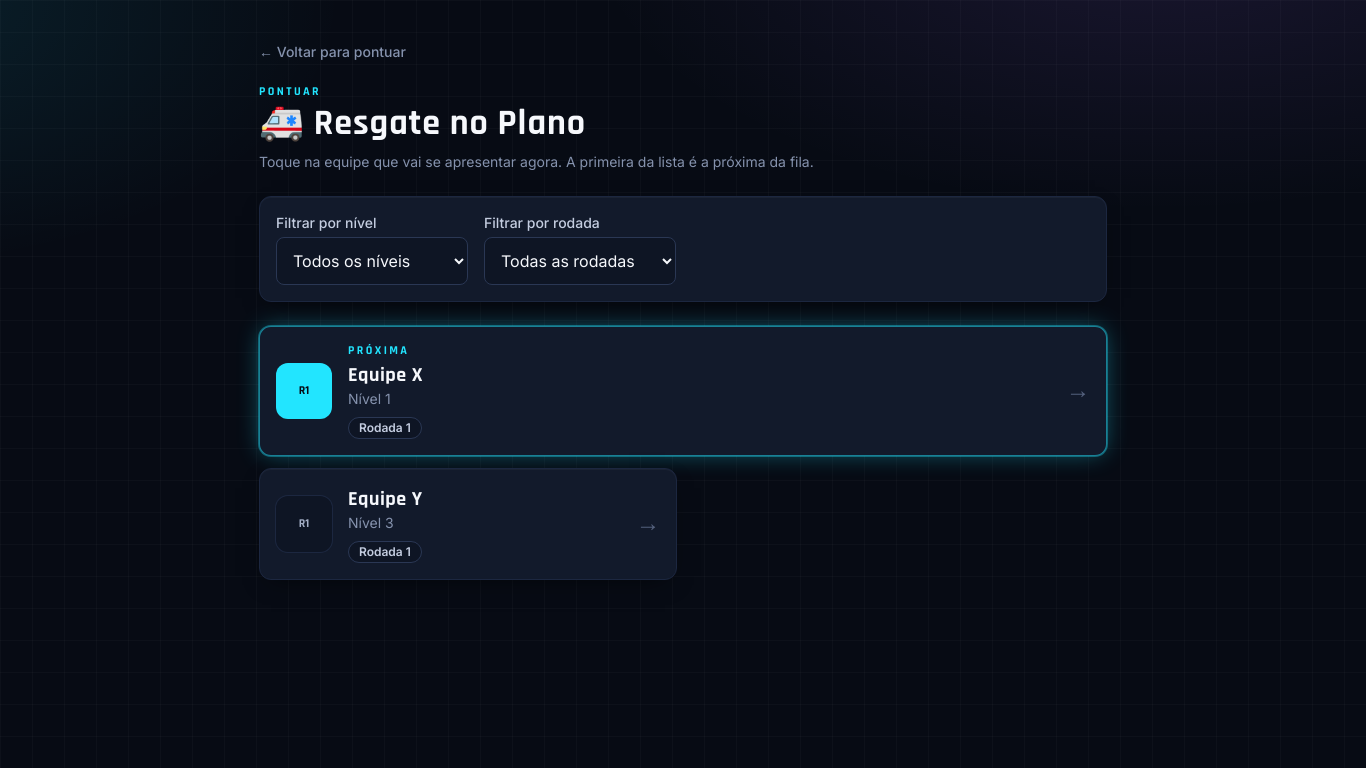
Test: PontuarPage › filtra os cards pendentes pelo nivel selecionado
The width and height of the screenshot is (1366, 768).
expect the heading "Equipe X" is shown: met, box [348, 362, 423, 388]
Select "Nível 3" in the dropdown labelled "Filtrar por nível" at (372, 261), box [276, 237, 468, 285]
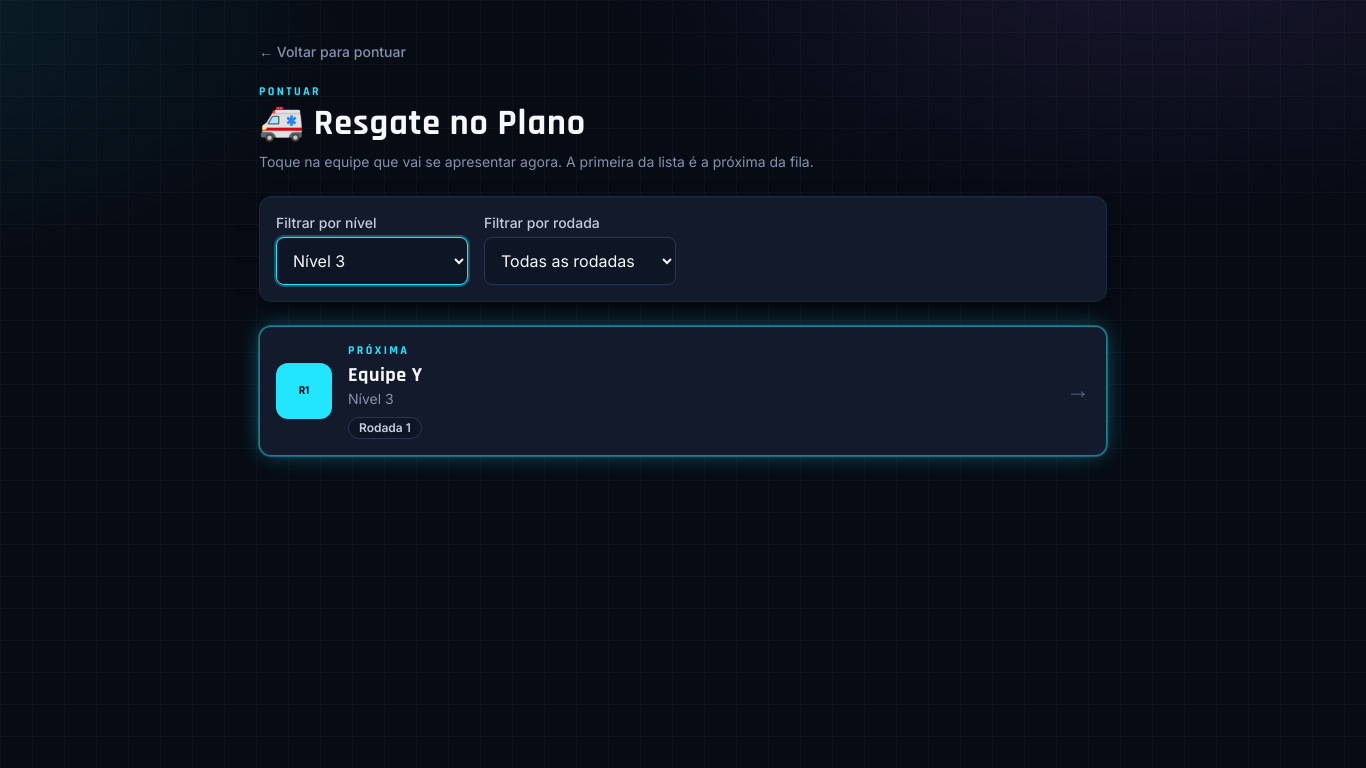
expect the heading "Equipe Y" is shown: met, box [348, 362, 422, 388]
expect the link "Equipe X" is gone: met
